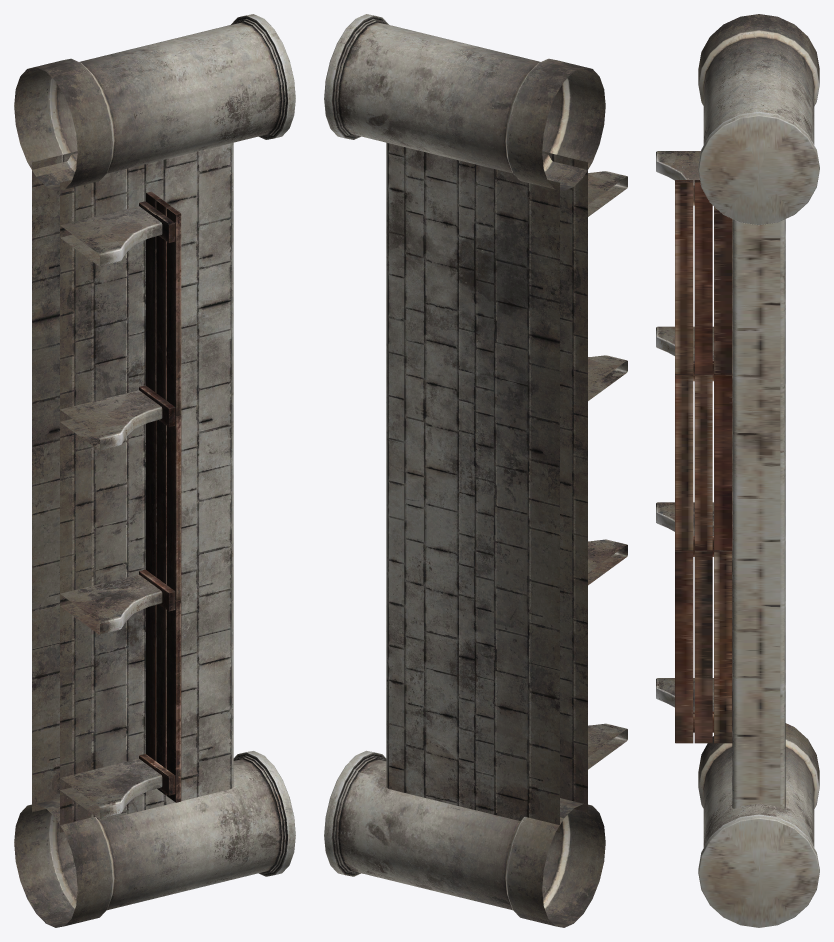
File: cP_Bench14.dae
3 views of the same model, side by side, from view 1: azimuth 30°, elevation 25°; view 2: azimuth 150°, elevation 25°; view 3: azimuth 270°, elevation 25° (orthographic). The views are drawn at different scales.
Parts seen in each view (by area): view 1: cP_Bench14.001; view 2: cP_Bench14.001; view 3: cP_Bench14.001.
Part boxes in pixels (x1=…): cP_Bench14.001: x1=14, y1=14, x2=295, y2=927; cP_Bench14.001: x1=324, y1=14, x2=627, y2=927; cP_Bench14.001: x1=656, y1=14, x2=819, y2=927.
Bounding box in the file's own units: 1.27 × 0.8447 × 4.63.
